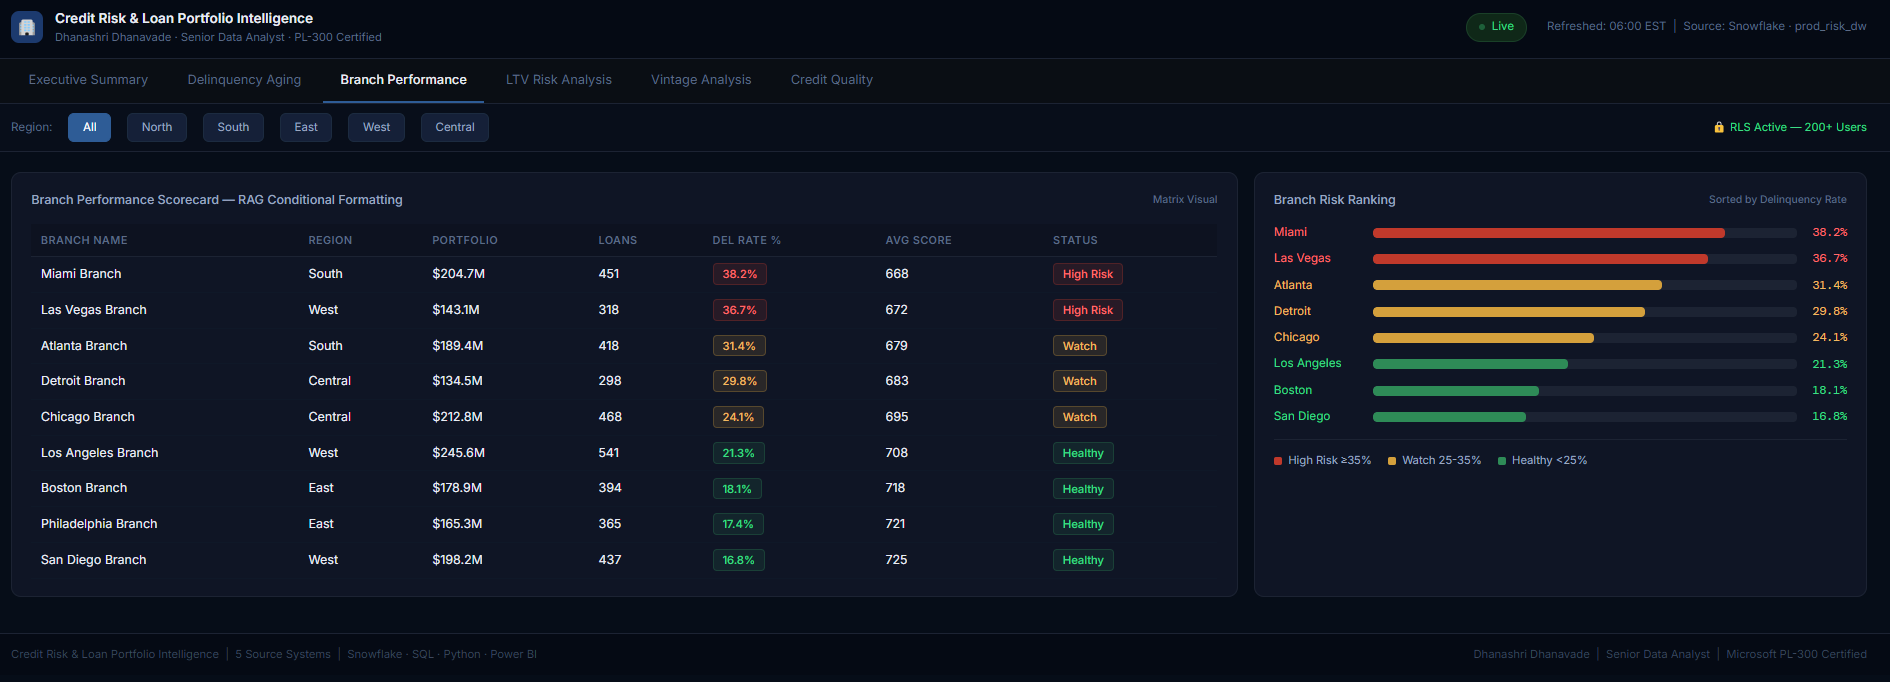

What the dashboard file says about the page in this screenshot:
{"tool":"powerbi","page":{"name":"Branch Performance","canvas":[1280,720],"ordinal":2},"visuals":[{"type":"textbox","box":[10,0,280,280],"z":0},{"type":"pivotTable","fields":{"Rows":["pbi_branch_performance.BranchName"],"Values":["Sum(pbi_branch_performance.Portfolio_M)","Sum(pbi_branch_performance.Loans)","Sum(pbi_branch_performance.DelRate_Pct)","Sum(pbi_branch_performance.AvgCreditScore)"],"Columns":["pbi_branch_performance.RiskStatus"]},"box":[560.1,265.6,279.4,280.7],"z":1},{"type":"clusteredBarChart","fields":{"Category":["pbi_branch_performance.BranchName"],"Y":["Sum(pbi_branch_performance.DelRate_Pct)"]},"box":[10,483.5,280,236.5],"z":2},{"type":"slicer","fields":{"Values":["pbi_branch_performance.Region"]},"box":[854.6,42.8,280.7,172.4],"z":3}]}

Visuals, with their boxes on the page's 1280x720 design canvas (x1, y1, x2, y2). These are canvas units, not pixel positions in the 1890x682 screenshot, which may show the page scaled, cropped or inside an application window:
textbox: bbox(10, 0, 290, 280)
pivotTable - pbi_branch_performance.BranchName x Sum(pbi_branch_performance.Portfolio_M): bbox(560, 266, 840, 546)
clusteredBarChart - pbi_branch_performance.BranchName x Sum(pbi_branch_performance.DelRate_Pct): bbox(10, 484, 290, 720)
slicer - pbi_branch_performance.Region: bbox(855, 43, 1135, 215)
